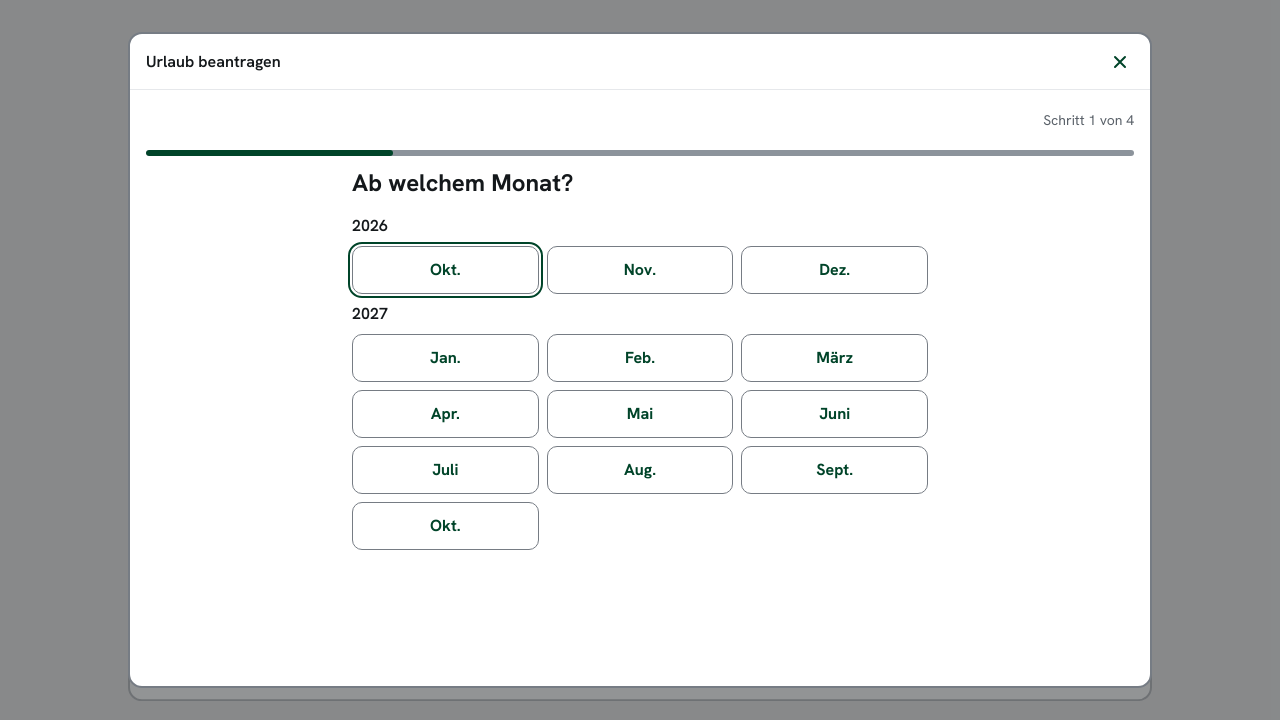
Test: UrlaubBeantragenPage › nennt in der Zusammenfassung die Feiertage, die nicht zählen
Click the button with aria-label "Okt. 2026" at x=445, y=270, box [352,246,539,294]
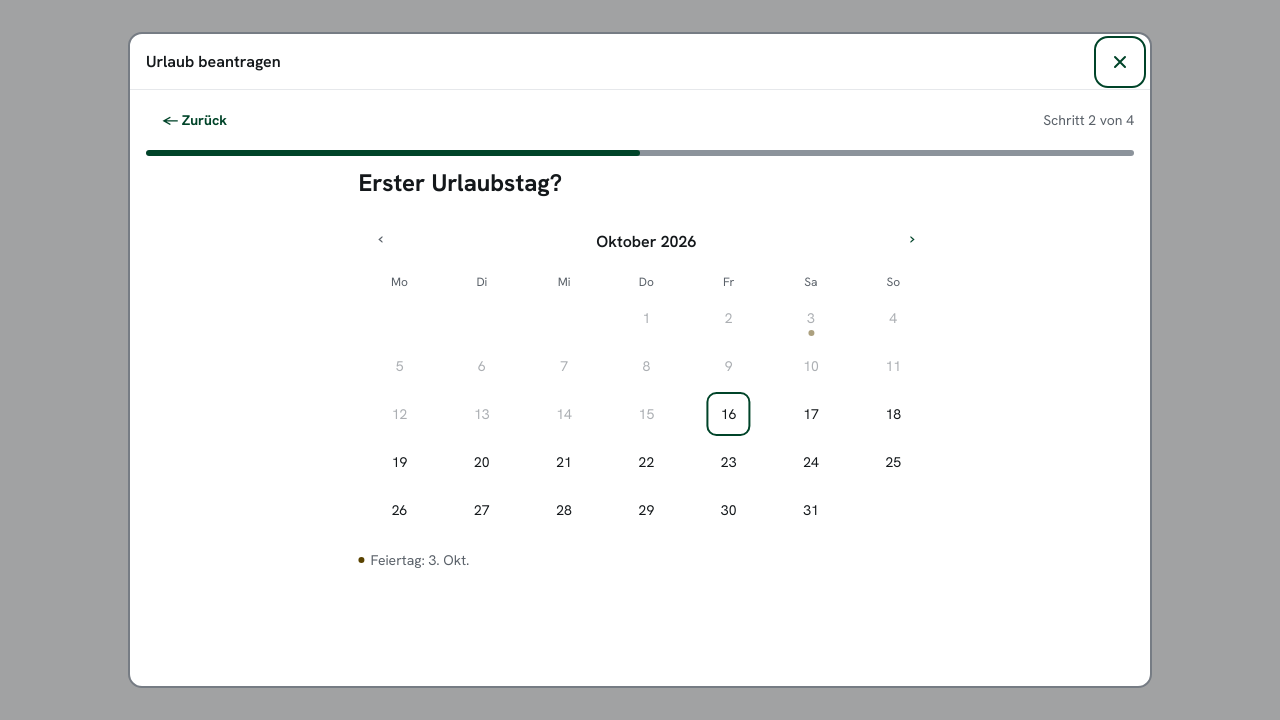
Click the button "26" at x=394, y=510, box [372,488,416,532]
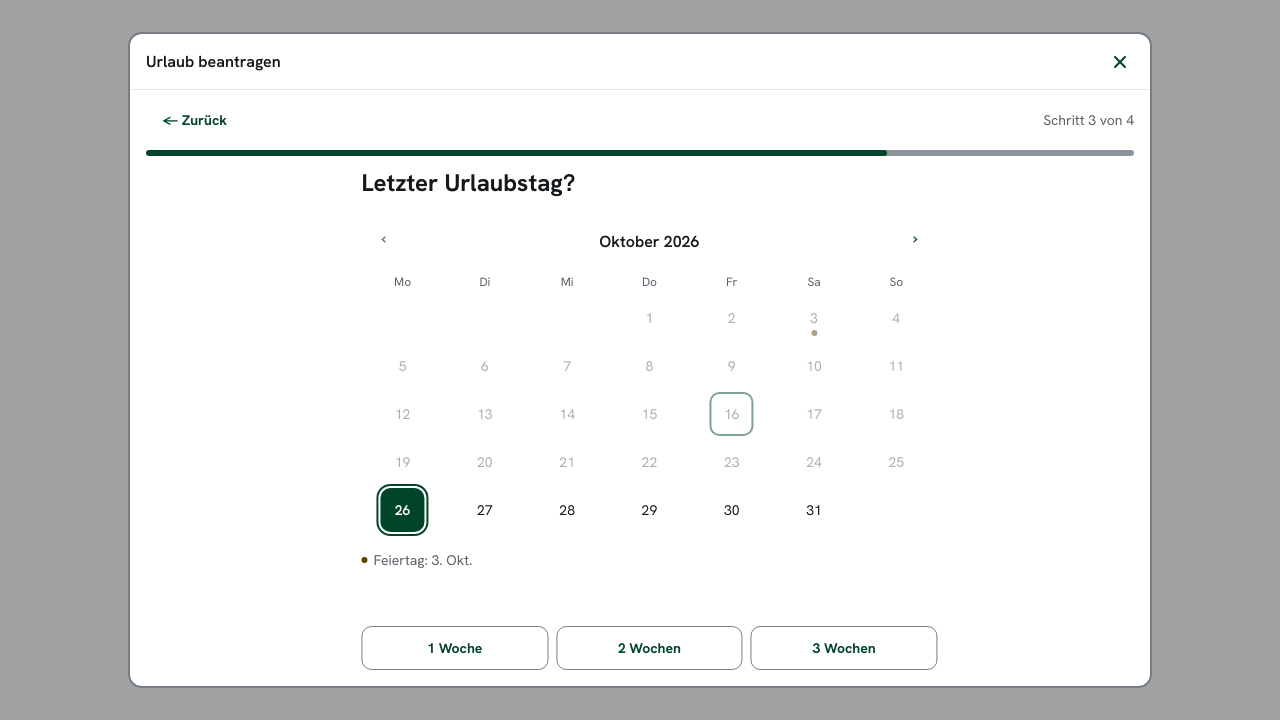
Click the button "1 Woche" at x=447, y=648, box [353,626,540,670]
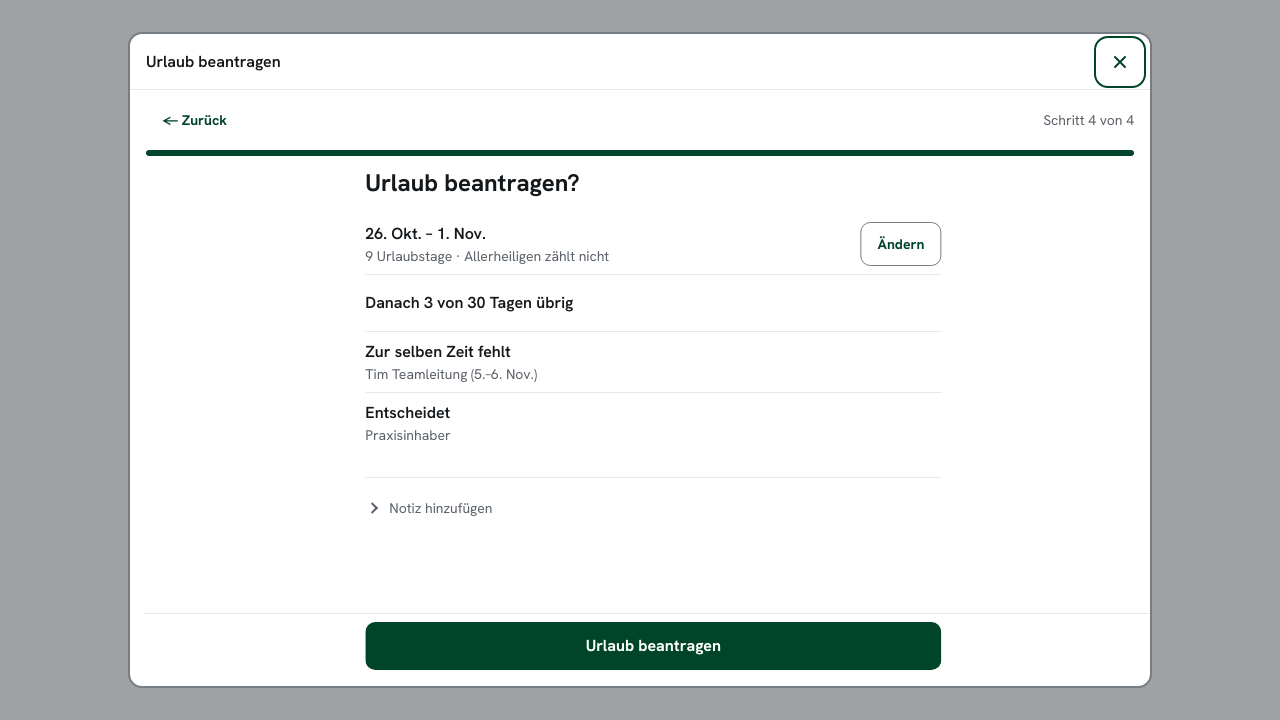
Now the text "9 Urlaubstage · Allerheiligen zählt nicht" is shown, box [356,247,600,265]
